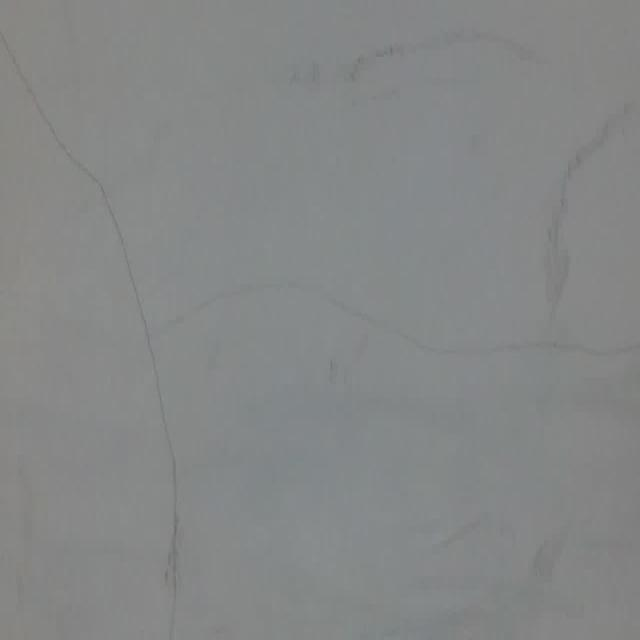Crack: (0, 17, 210, 640), (114, 265, 640, 382)
